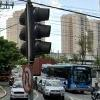traffic lights: (24, 3, 52, 62)
